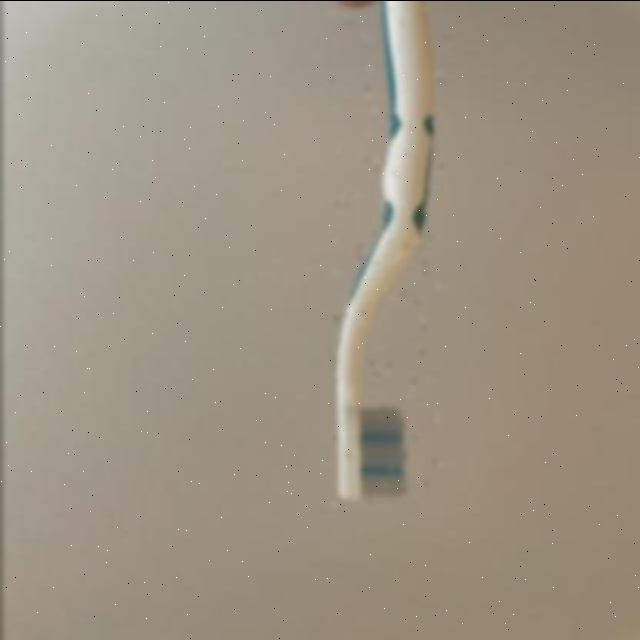toothbrush: (330, 0, 442, 506)
